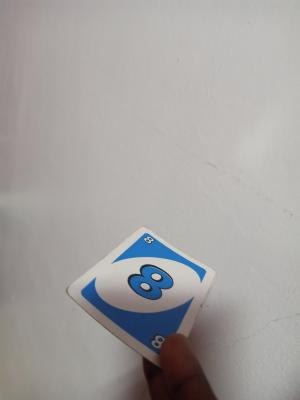blue: (123, 247, 187, 329)
num_8: (145, 332, 168, 351), (142, 233, 155, 246)
